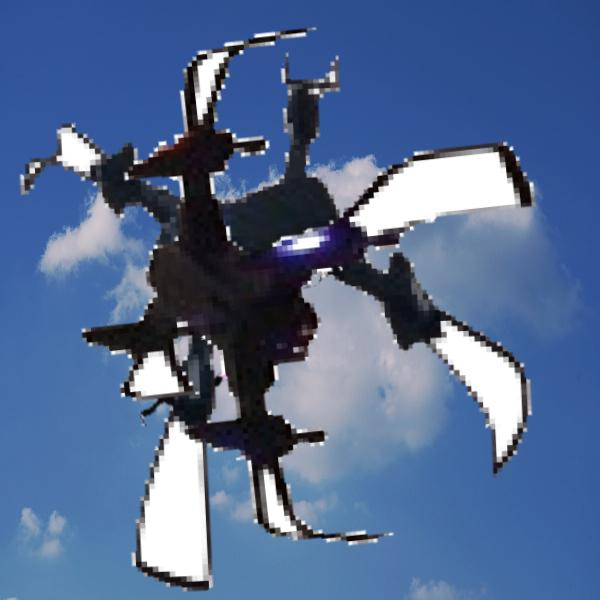drone: (10, 47, 564, 600), (52, 28, 590, 566), (128, 324, 270, 466), (233, 186, 345, 298)
